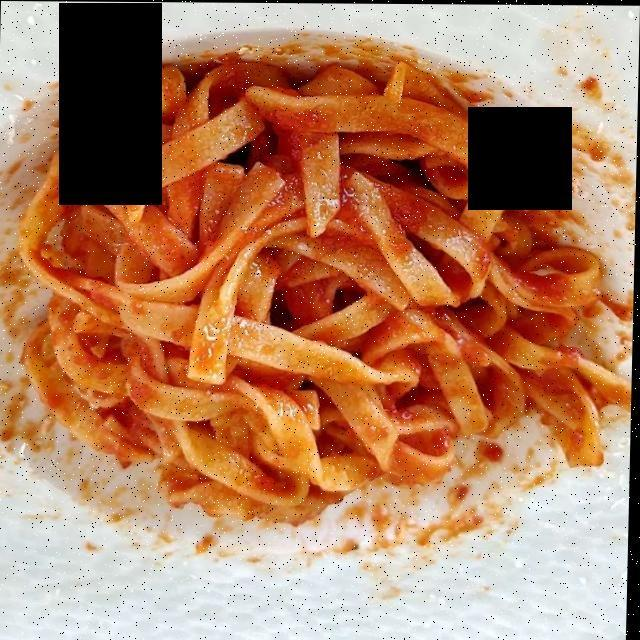pasta: (30, 58, 607, 526)
